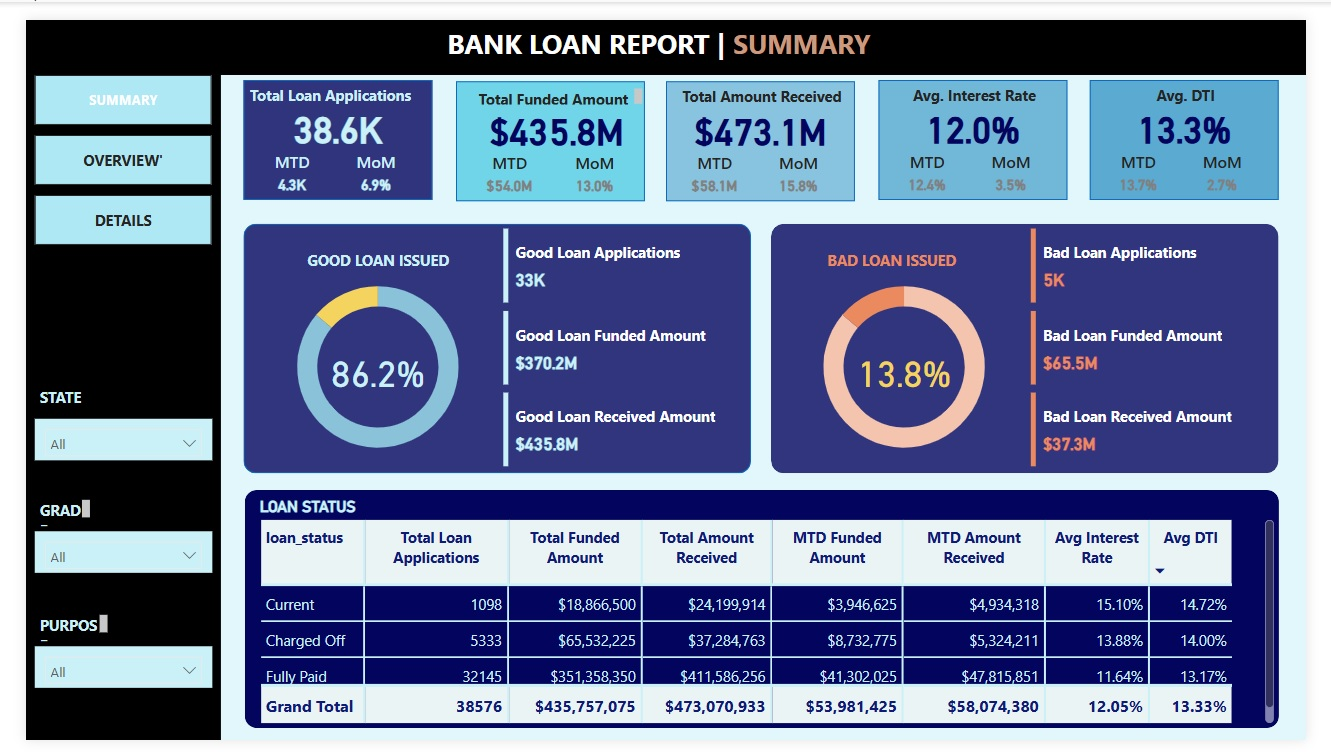

The dashboard page shown, as its layout file describes it:
{"tool":"powerbi","page":{"name":"SUMMARY","canvas":[1280,720],"ordinal":0},"visuals":[{"type":"shape","box":[217.8,59.5,189.2,120.2],"z":0,"group":"g1"},{"type":"shape","box":[852.1,59.5,189.2,120.2],"z":0,"group":"g4"},{"type":"shape","box":[1063.9,59.5,189.2,120.2],"z":0,"group":"g5"},{"type":"shape","box":[429.6,60.7,189.2,120.2],"z":0,"group":"g2"},{"type":"shape","box":[640.3,60.7,189.2,120.2],"z":0,"group":"g3"},{"type":"shape","box":[217.8,203.5,508.2,249.9],"z":0},{"type":"card","fields":{"Values":["Bank_Loan_Data.Total Loan Applications"]},"box":[217.8,84.5,189.2,45.2],"z":1000,"group":"g1"},{"type":"card","fields":{"Values":["Bank_Loan_Data.Avg Interest Rate"]},"box":[852.1,84.5,189.2,45.2],"z":1000,"group":"g4"},{"type":"card","fields":{"Values":["Bank_Loan_Data.Avg DTI"]},"box":[1063.9,84.5,189.2,45.2],"z":1000,"group":"g5"},{"type":"card","fields":{"Values":["Bank_Loan_Data.Total Funded Amount"]},"box":[435.6,85.7,189.2,45.2],"z":1000,"group":"g2"},{"type":"card","fields":{"Values":["Bank_Loan_Data.Total Amount Received"]},"box":[640.3,85.7,189.2,45.2],"z":1000,"group":"g3"},{"type":"donutChart","fields":{"Category":["Bank_Loan_Data.Good Vs Bad Loan"],"Y":["Bank_Loan_Data.Total Loan Applications"]},"box":[219,241.6,266.6,211.8],"z":1000},{"type":"shape","box":[0,0,1280.3,55],"z":2000},{"type":"textbox","box":[219,59.5,189.2,32.1],"z":2000,"group":"g1"},{"type":"textbox","box":[853.3,59.5,189.2,32.1],"z":2000,"group":"g4"},{"type":"textbox","box":[1065.1,59.5,189.2,32.1],"z":2000,"group":"g5"},{"type":"textbox","box":[641.5,60.7,189.2,32.1],"z":2000,"group":"g3"},{"type":"textbox","title":"Total Funded Amount","box":[447.3,63,173.8,26.2],"z":2000,"group":"g2"},{"type":"shape","box":[0,55.1,195,665.9],"z":3000},{"type":"card","title":"MTD","fields":{"Values":["Bank_Loan_Data.MTD Loan Applications"]},"box":[228.5,129.7,75,50],"z":3000,"group":"g1"},{"type":"card","title":"MTD","fields":{"Values":["Bank_Loan_Data.MTD Avg Interest Rate"]},"box":[862.8,129.7,75,50],"z":3000,"group":"g4"},{"type":"card","title":"MTD","fields":{"Values":["Bank_Loan_Data.MTD Avg DTI"]},"box":[1074.6,129.7,75,50],"z":3000,"group":"g5"},{"type":"card","title":"MTD","fields":{"Values":["Bank_Loan_Data.MTD Funded Amount"]},"box":[446.3,130.9,75,50],"z":3000,"group":"g2"},{"type":"card","title":"MTD","fields":{"Values":["Bank_Loan_Data.MTD Amount Received"]},"box":[651,130.9,75,50],"z":3000,"group":"g3"},{"type":"card","title":"MoM","fields":{"Values":["Bank_Loan_Data.MoM Loan Applications"]},"box":[313,129.7,75,50],"z":4000,"group":"g1"},{"type":"card","title":"MoM","fields":{"Values":["Bank_Loan_Data.MoM Avg Interest Rate"]},"box":[947.3,129.7,75,50],"z":4000,"group":"g4"},{"type":"card","title":"MoM","fields":{"Values":["Bank_Loan_Data.MoM Avg DTI"]},"box":[1159.1,129.7,75,50],"z":4000,"group":"g5"},{"type":"card","title":"MoM","fields":{"Values":["Bank_Loan_Data.MoM Total Funded Amount"]},"box":[530.8,130.9,75,50],"z":4000,"group":"g2"},{"type":"card","title":"MoM","fields":{"Values":["Bank_Loan_Data.MoM Total Amount Received"]},"box":[735.5,130.9,75,50],"z":4000,"group":"g3"},{"type":"card","fields":{"Values":["Bank_Loan_Data.Good Loan %"]},"box":[257.1,328.5,189.2,45.2],"z":4000},{"type":"textbox","box":[416.8,0,445.5,56.3],"z":5000},{"type":"group","id":"g1","title":"Group 1","box":[217.8,59.5,190.4,120.2],"z":6000},{"type":"group","id":"g2","title":"Group 1","box":[429.6,60.7,195.2,120.2],"z":7000},{"type":"group","id":"g3","title":"Group 1","box":[640.3,60.7,190.4,120.2],"z":8000},{"type":"group","id":"g4","title":"Group 1","box":[852.1,59.5,190.4,120.2],"z":9000},{"type":"group","id":"g5","title":"Group 1","box":[1063.9,59.5,190.4,120.2],"z":10000},{"type":"shape","box":[745,203.5,508.2,249.9],"z":11000},{"type":"textbox","box":[257.1,224.9,189.2,33.3],"z":12000},{"type":"cardVisual","fields":{"Data":["Bank_Loan_Data.Good Loan Applications","Bank_Loan_Data.Good Loan Funded Amount","Bank_Loan_Data.Good Loan Received Amount"]},"box":[472.5,203.5,253.5,249.9],"z":13000},{"type":"donutChart","fields":{"Category":["Bank_Loan_Data.Good Vs Bad Loan"],"Y":["Bank_Loan_Data.Total Loan Applications"]},"box":[745,241.6,266.6,211.8],"z":14000},{"type":"cardVisual","fields":{"Data":["Bank_Loan_Data.Bad Loan Applications","Bank_Loan_Data.Bad Loan Funded Amount","Bank_Loan_Data.Bad Loan Received Amount"]},"box":[999.7,203.5,253.5,249.9],"z":15000},{"type":"textbox","box":[796.2,224.9,164.2,35.7],"z":16000},{"type":"card","fields":{"Values":["Bank_Loan_Data.Bad Loan %"]},"box":[784.3,328.5,189.2,45.2],"z":17000},{"type":"shape","box":[219,470.1,1034.2,238],"z":18000},{"type":"tableEx","title":"LOAN STATUS","fields":{"Values":["Bank_Loan_Data.loan_status","Bank_Loan_Data.Total Loan Applications","Bank_Loan_Data.Total Funded Amount","Bank_Loan_Data.Total Amount Received","Bank_Loan_Data.MTD Funded Amount","Bank_Loan_Data.MTD Amount Received","Bank_Loan_Data.Avg Interest Rate","Bank_Loan_Data.Avg DTI"]},"box":[228.6,477.6,1024.5,230.6],"z":19000},{"type":"slicer","fields":{"Values":["Bank_Loan_Data.address_state"]},"box":[8.8,398.8,177.5,41.2],"z":20000},{"type":"textbox","box":[8.8,362.5,60,36.2],"z":21000},{"type":"slicer","fields":{"Values":["Bank_Loan_Data.grade"]},"box":[8.8,511.2,177.5,41.2],"z":21001},{"type":"slicer","fields":{"Values":["Bank_Loan_Data.purpose"]},"box":[8.8,626.2,177.5,41.2],"z":21002},{"type":"textbox","box":[8.8,475,60,36.2],"z":21003},{"type":"textbox","box":[8.8,590,77.5,36.2],"z":21004},{"type":"pageNavigator","box":[8.8,55,177.5,170],"z":21005}]}

Visuals, with their boxes in screenshot pixels (x1, y1, x2, y2), scaled from the page's 1280x720 canvas onto the 1331x755 screenshot:
shape: rect(226, 62, 423, 188)
shape: rect(886, 62, 1083, 188)
shape: rect(1106, 62, 1303, 188)
shape: rect(447, 64, 643, 190)
shape: rect(666, 64, 863, 190)
shape: rect(226, 213, 755, 475)
card - Bank_Loan_Data.Total Loan Applications: rect(226, 89, 423, 136)
card - Bank_Loan_Data.Avg Interest Rate: rect(886, 89, 1083, 136)
card - Bank_Loan_Data.Avg DTI: rect(1106, 89, 1303, 136)
card - Bank_Loan_Data.Total Funded Amount: rect(453, 90, 650, 137)
card - Bank_Loan_Data.Total Amount Received: rect(666, 90, 863, 137)
donutChart - Bank_Loan_Data.Good Vs Bad Loan x Bank_Loan_Data.Total Loan Applications: rect(228, 253, 505, 475)
shape: rect(0, 0, 1330, 58)
textbox: rect(228, 62, 424, 96)
textbox: rect(887, 62, 1084, 96)
textbox: rect(1108, 62, 1304, 96)
textbox: rect(667, 64, 864, 97)
"Total Funded Amount" textbox: rect(465, 66, 646, 94)
shape: rect(0, 58, 203, 754)
"MTD" card: rect(238, 136, 316, 188)
"MTD" card: rect(897, 136, 975, 188)
"MTD" card: rect(1117, 136, 1195, 188)
"MTD" card: rect(464, 137, 542, 190)
"MTD" card: rect(677, 137, 755, 190)
"MoM" card: rect(325, 136, 403, 188)
"MoM" card: rect(985, 136, 1063, 188)
"MoM" card: rect(1205, 136, 1283, 188)
"MoM" card: rect(552, 137, 630, 190)
"MoM" card: rect(765, 137, 843, 190)
card - Bank_Loan_Data.Good Loan %: rect(267, 344, 464, 392)
textbox: rect(433, 0, 897, 59)
"Group 1" group: rect(226, 62, 424, 188)
"Group 1" group: rect(447, 64, 650, 190)
"Group 1" group: rect(666, 64, 864, 190)
"Group 1" group: rect(886, 62, 1084, 188)
"Group 1" group: rect(1106, 62, 1304, 188)
shape: rect(775, 213, 1303, 475)
textbox: rect(267, 236, 464, 271)
cardVisual - Bank_Loan_Data.Good Loan Applications x Bank_Loan_Data.Good Loan Funded Amount: rect(491, 213, 755, 475)
donutChart - Bank_Loan_Data.Good Vs Bad Loan x Bank_Loan_Data.Total Loan Applications: rect(775, 253, 1052, 475)
cardVisual - Bank_Loan_Data.Bad Loan Applications x Bank_Loan_Data.Bad Loan Funded Amount: rect(1040, 213, 1303, 475)
textbox: rect(828, 236, 999, 273)
card - Bank_Loan_Data.Bad Loan %: rect(816, 344, 1012, 392)
shape: rect(228, 493, 1303, 743)
"LOAN STATUS" tableEx: rect(238, 501, 1303, 743)
slicer - Bank_Loan_Data.address_state: rect(9, 418, 194, 461)
textbox: rect(9, 380, 72, 418)
slicer - Bank_Loan_Data.grade: rect(9, 536, 194, 579)
slicer - Bank_Loan_Data.purpose: rect(9, 657, 194, 700)
textbox: rect(9, 498, 72, 536)
textbox: rect(9, 619, 90, 657)
pageNavigator: rect(9, 58, 194, 236)
